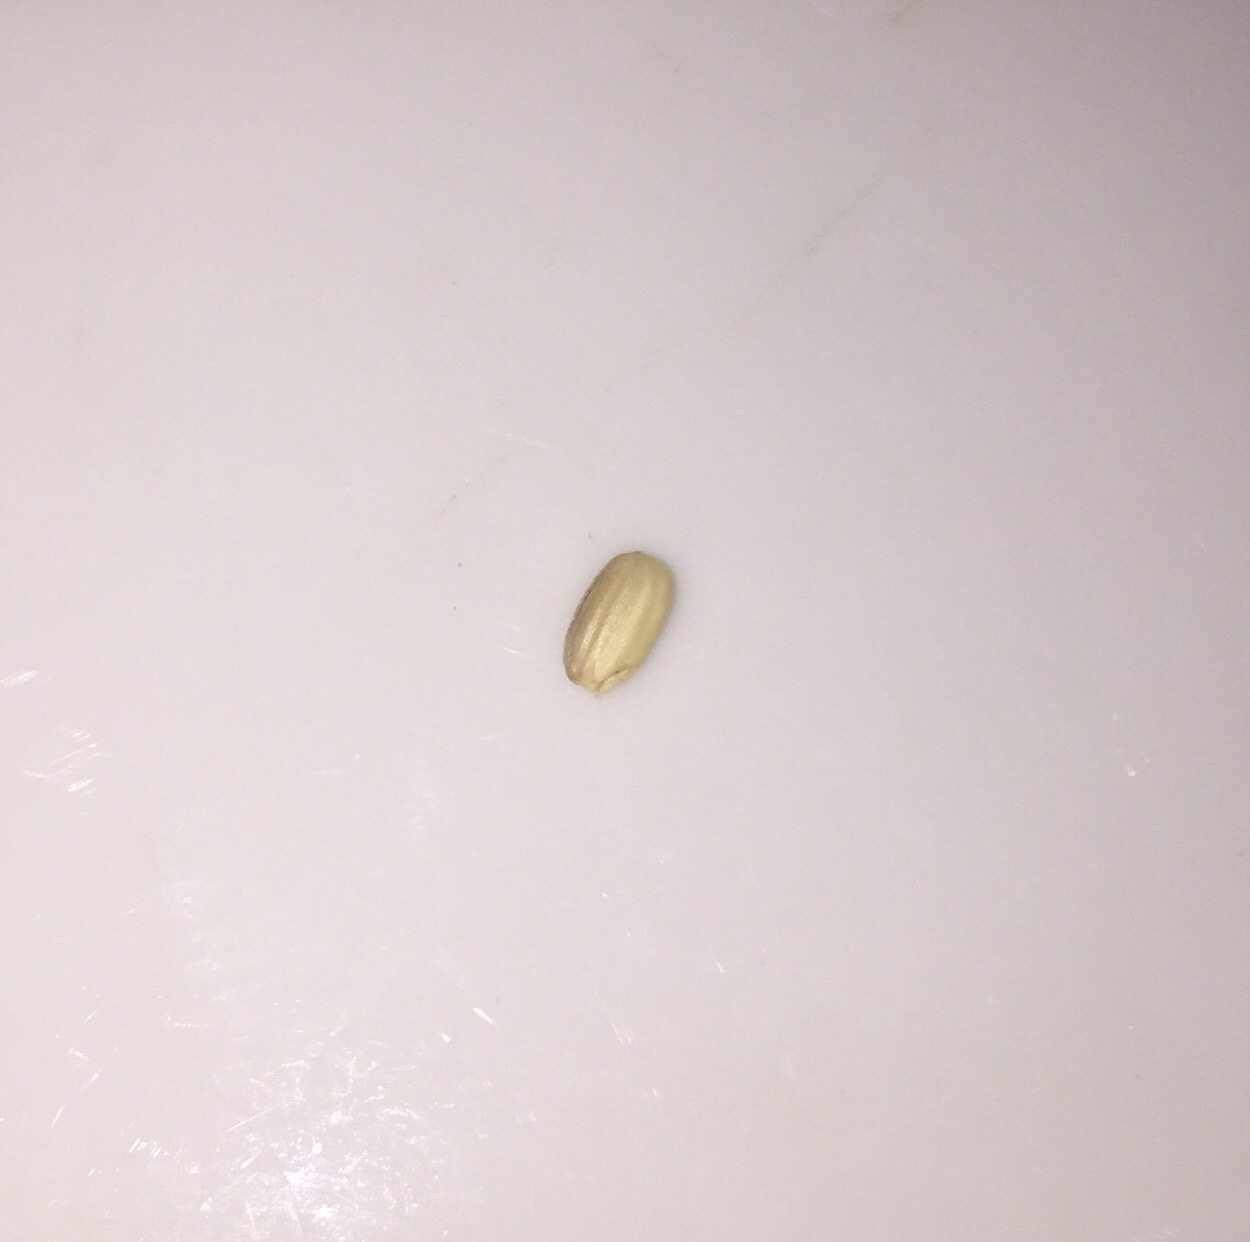Gao Lut Bac: (551, 538, 682, 702)
